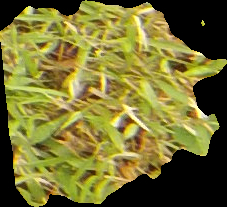grass: (1, 1, 225, 206)
